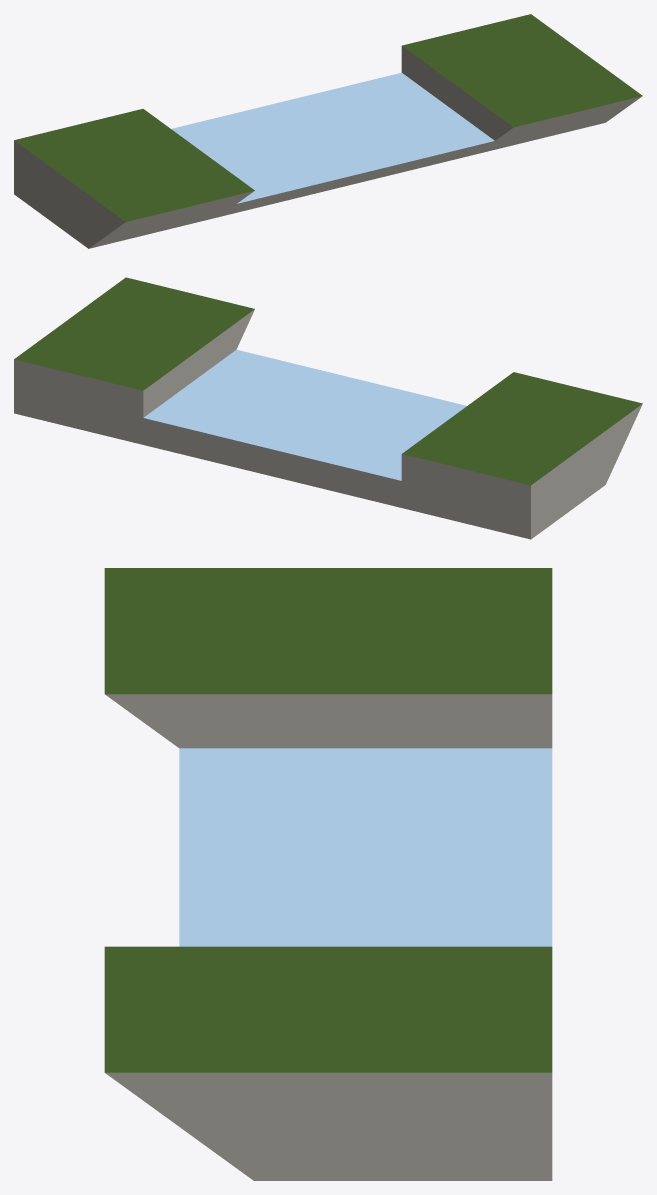
File: Terrain_Modular_Tiles_Grass_Rock_Cliff_Edge_River_Outer_03.fbx
3 renders of one model, top to bottom at view 1: azimuth 30°, elevation 25°; view 2: azimuth 150°, elevation 25°; view 3: azimuth 270°, elevation 25°, orthographic. The views are drawn at different scales.
Parts seen in each view (by area): view 1: Terrain_Modular_Tiles_Grass_Rock_Cliff_Edge_River_Outer_03; view 2: Terrain_Modular_Tiles_Grass_Rock_Cliff_Edge_River_Outer_03; view 3: Terrain_Modular_Tiles_Grass_Rock_Cliff_Edge_River_Outer_03.
Boxes of the visible parts, x1=… form: Terrain_Modular_Tiles_Grass_Rock_Cliff_Edge_River_Outer_03: x1=14, y1=14, x2=642, y2=248; Terrain_Modular_Tiles_Grass_Rock_Cliff_Edge_River_Outer_03: x1=14, y1=277, x2=642, y2=539; Terrain_Modular_Tiles_Grass_Rock_Cliff_Edge_River_Outer_03: x1=104, y1=568, x2=552, y2=1180.
Size of the model in its own units: 3000 by 300 by 1125.
